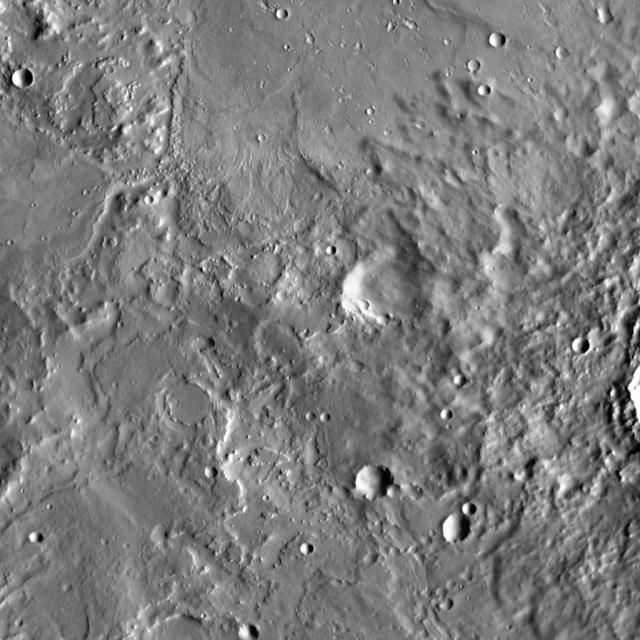crater: (338, 255, 416, 328), (143, 611, 203, 640), (351, 466, 389, 501), (436, 514, 467, 544), (8, 70, 28, 88), (567, 336, 586, 354), (234, 624, 254, 640), (548, 108, 564, 123), (485, 35, 501, 49), (382, 485, 398, 499), (23, 532, 38, 546), (458, 504, 472, 518), (294, 544, 308, 556), (199, 467, 213, 479), (434, 599, 447, 611), (474, 85, 486, 97), (272, 10, 284, 22), (360, 554, 372, 566), (436, 410, 448, 421), (550, 48, 562, 59), (448, 376, 461, 386), (462, 60, 473, 70), (321, 244, 331, 254), (314, 413, 324, 423), (385, 548, 395, 558), (432, 588, 442, 598), (458, 574, 468, 584), (410, 120, 420, 130), (272, 292, 282, 302), (301, 413, 311, 422), (301, 37, 311, 46), (138, 196, 148, 205), (58, 584, 68, 593), (327, 580, 337, 588), (336, 582, 346, 590), (442, 582, 452, 590), (308, 194, 318, 202), (369, 116, 377, 124), (320, 127, 328, 135), (100, 68, 108, 76), (404, 23, 412, 31), (446, 47, 454, 54), (472, 78, 479, 85), (260, 144, 268, 150), (350, 44, 358, 50), (386, 138, 393, 144), (85, 196, 92, 202), (104, 548, 110, 554), (394, 8, 402, 12)
